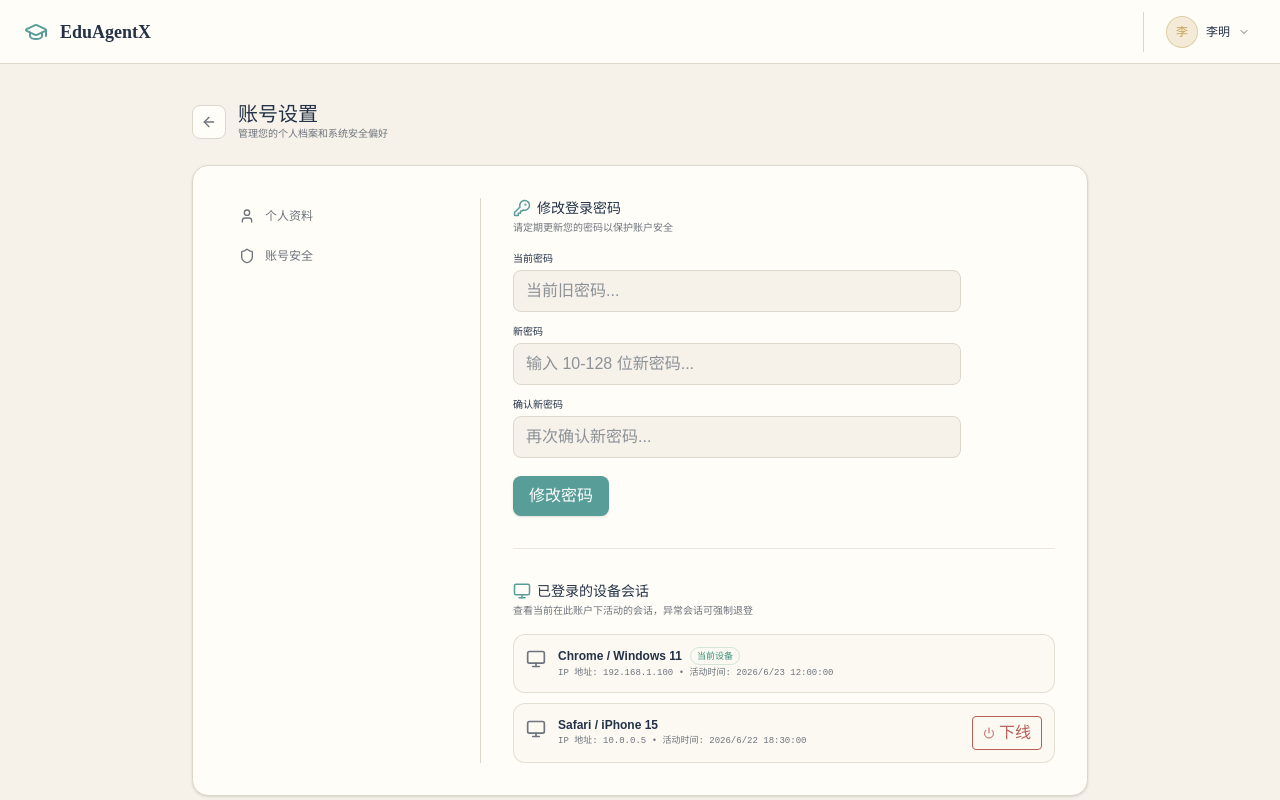
Settings Pages › should show error toast when revoke session API fails
This screenshot has width=1280, height=800.
Expected: the text "Chrome / Windows 11" is shown, [558,648,682,662]
Click the button "下线": (1007, 733) [972,716,1042,750]
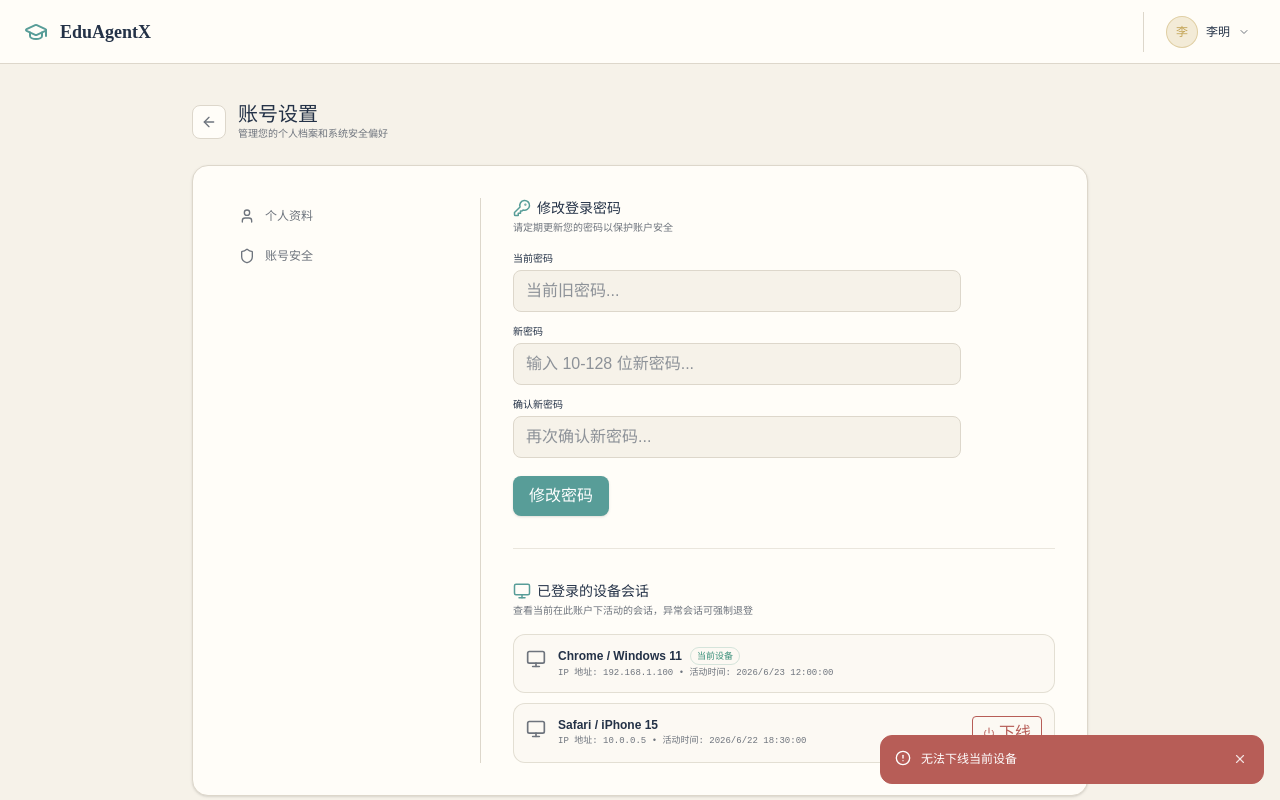
Expected: the text "无法下线当前设备" is shown, [921,752,1017,766]
